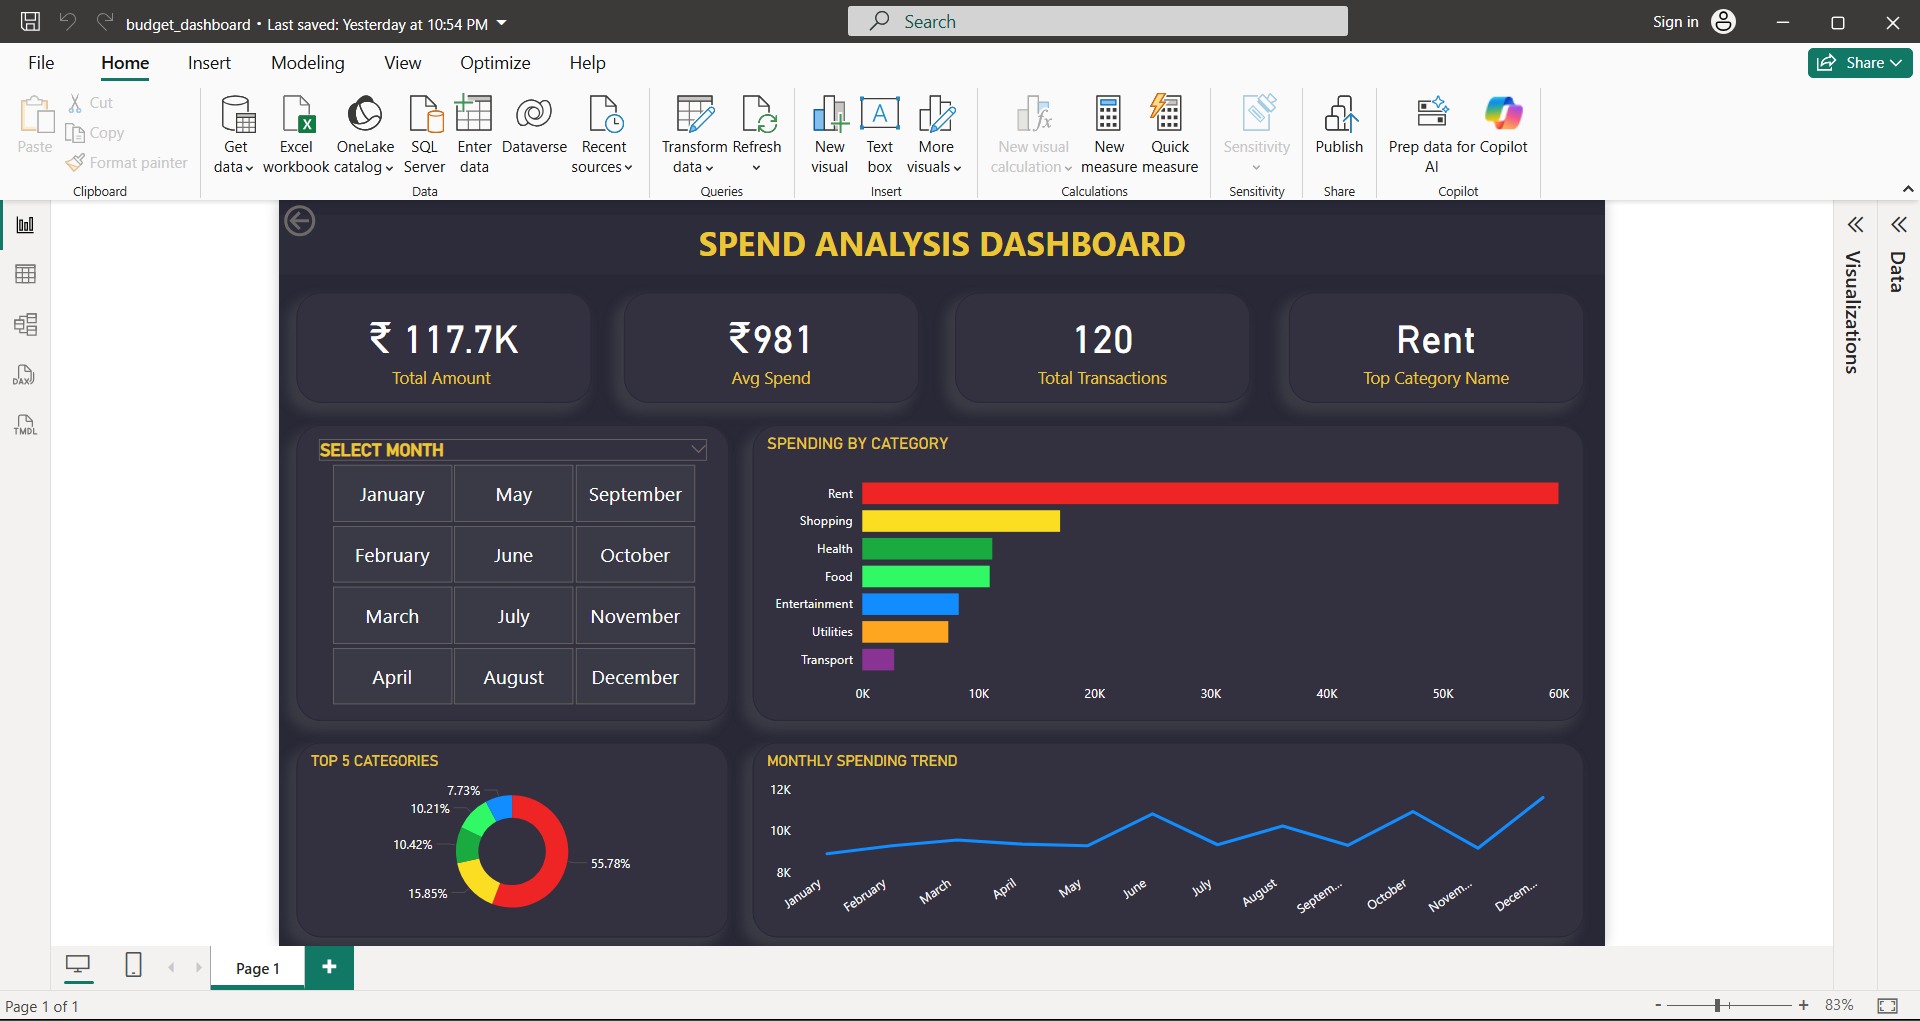

What the dashboard file says about the page in this screenshot:
{"tool":"powerbi","page":{"name":"Page 1","canvas":[1280,720],"ordinal":0},"visuals":[{"type":"clusteredBarChart","title":"SPENDING BY CATEGORY","fields":{"Category":["Raw Data.category"],"Y":["Sum(Raw Data.amount)"]},"box":[457.2,217.2,802.3,285.9],"z":0},{"type":"textbox","box":[0,14.5,1280,57.9],"z":1000},{"type":"slicer","title":"SELECT MONTH","fields":{"Values":["Raw Data.month"]},"box":[16.9,217.2,417.4,285.9],"z":2000},{"type":"card","fields":{"Values":["Sum(Raw Data.amount)"]},"box":[16.9,89.3,284.7,106.2],"z":3000},{"type":"actionButton","box":[0,0,100,40],"z":4000},{"type":"card","fields":{"Values":["CountNonNull(Raw Data.amount)"]},"box":[652.7,89.3,284.7,106.2],"z":5000},{"type":"card","fields":{"Values":["Raw Data.Avg Spend"]},"box":[333,89.3,284.7,106.2],"z":6001},{"type":"card","fields":{"Values":["Raw Data.Top Category Name"]},"box":[974.8,89.3,284.7,106.2],"z":6002},{"type":"lineChart","title":"MONTHLY SPENDING TREND","fields":{"Y":["Sum(Raw Data.amount)"],"Category":["Raw Data.month"]},"box":[457.2,523.6,802.3,188.2],"z":6003},{"type":"donutChart","title":"TOP 5 CATEGORIES","fields":{"Category":["Raw Data.category"],"Y":["Sum(Raw Data.amount)"]},"box":[17,524,417,188],"z":6004}]}

Visuals, with their boxes on the page's 1280x720 design canvas (x1, y1, x2, y2). These are canvas units, not pixel positions in the 1920x1021 screenshot, which may show the page scaled, cropped or inside an application window:
"SPENDING BY CATEGORY" clusteredBarChart: {"x1": 457, "y1": 217, "x2": 1260, "y2": 503}
textbox: {"x1": 0, "y1": 14, "x2": 1280, "y2": 72}
"SELECT MONTH" slicer: {"x1": 17, "y1": 217, "x2": 434, "y2": 503}
card - Sum(Raw Data.amount): {"x1": 17, "y1": 89, "x2": 302, "y2": 196}
actionButton: {"x1": 0, "y1": 0, "x2": 100, "y2": 40}
card - CountNonNull(Raw Data.amount): {"x1": 653, "y1": 89, "x2": 937, "y2": 196}
card - Raw Data.Avg Spend: {"x1": 333, "y1": 89, "x2": 618, "y2": 196}
card - Raw Data.Top Category Name: {"x1": 975, "y1": 89, "x2": 1260, "y2": 196}
"MONTHLY SPENDING TREND" lineChart: {"x1": 457, "y1": 524, "x2": 1260, "y2": 712}
"TOP 5 CATEGORIES" donutChart: {"x1": 17, "y1": 524, "x2": 434, "y2": 712}
